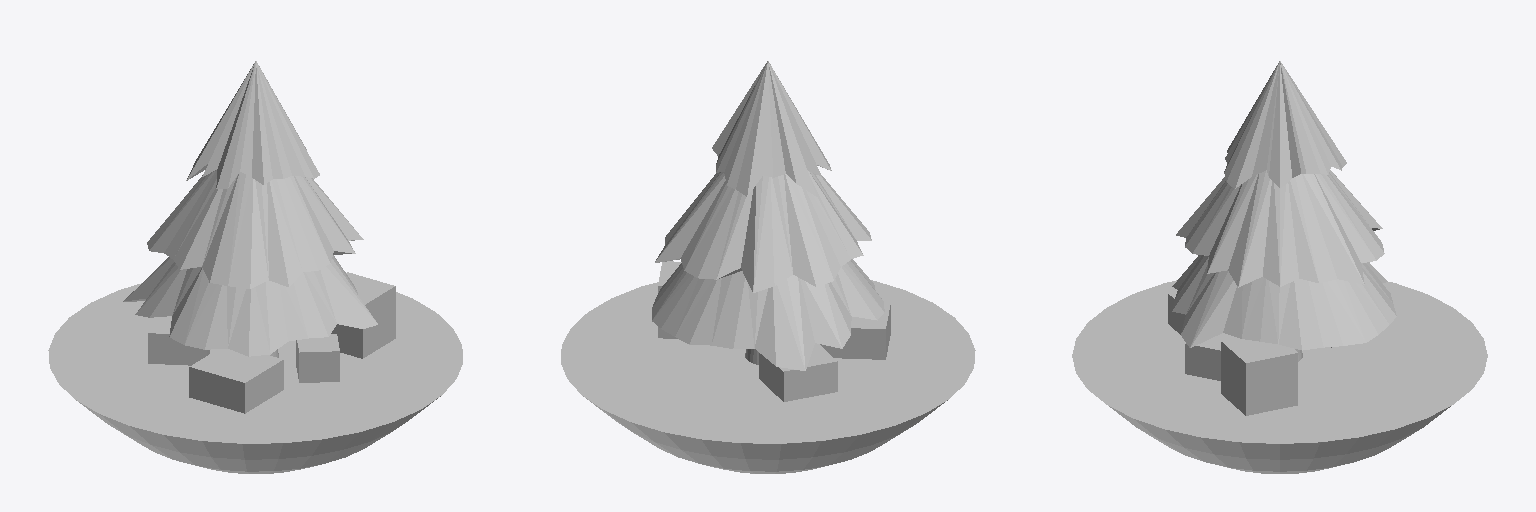
The model's file is snowglobe-scene.obj.
3 views of the same model, side by side, from view 1: azimuth 30°, elevation 25°; view 2: azimuth 150°, elevation 25°; view 3: azimuth 270°, elevation 25° (orthographic).
Visible parts, largest first — view 1: sphere1, cube2_copy3, cube2, cube2_copy4, cube2_copy5; view 2: sphere1, cube2_copy5, cube2_copy3; view 3: sphere1, cube2, cube2_copy4.
Boxes of the visible parts, <box> form: sphere1: <box>48,61,462,473</box>; cube2_copy3: <box>189,349,283,413</box>; cube2: <box>331,272,395,358</box>; cube2_copy4: <box>296,334,339,382</box>; cube2_copy5: <box>148,316,209,365</box>; sphere1: <box>561,61,975,473</box>; cube2_copy5: <box>759,343,837,401</box>; cube2_copy3: <box>820,301,890,359</box>; sphere1: <box>1072,61,1487,473</box>; cube2: <box>1221,338,1297,415</box>; cube2_copy4: <box>1185,333,1236,380</box>.
Size of the model in its own units: 1.66 by 1.73 by 1.66.